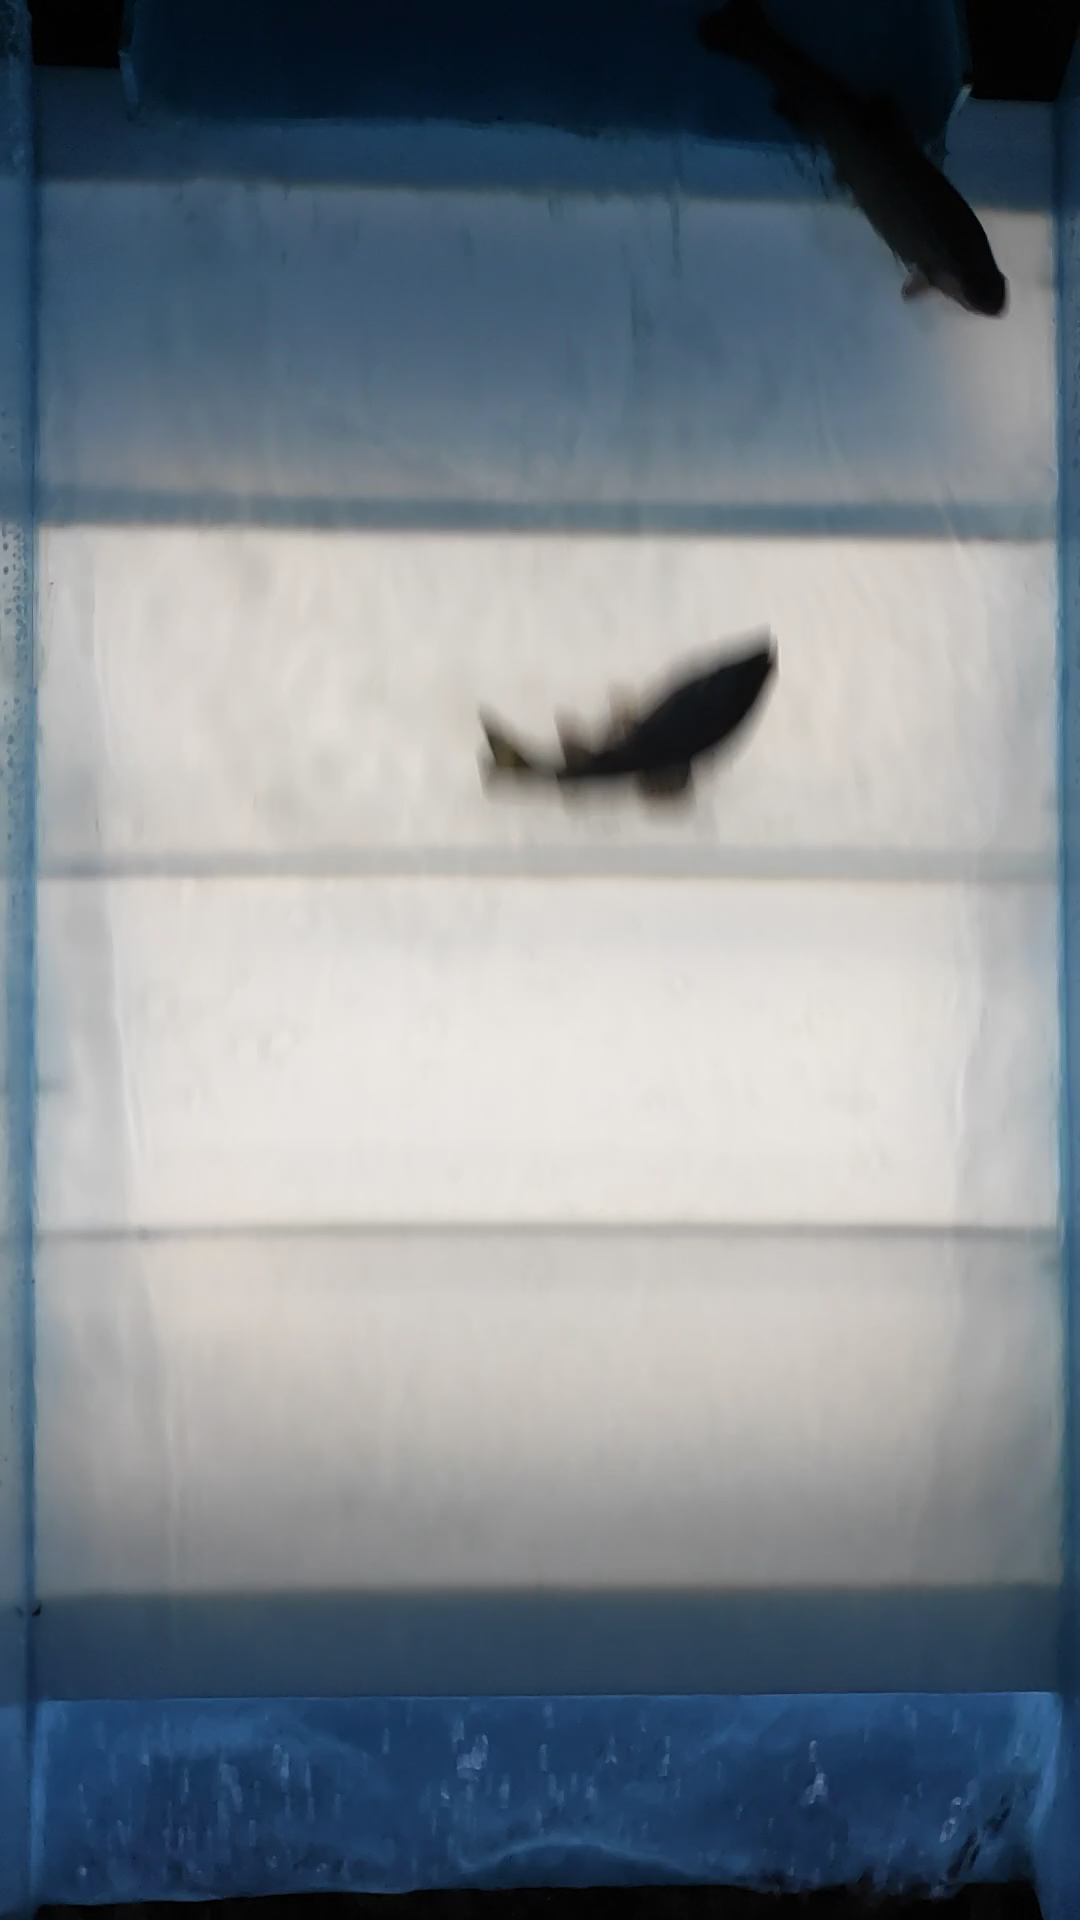fish: (694, 1, 1010, 320), (475, 636, 778, 808)
